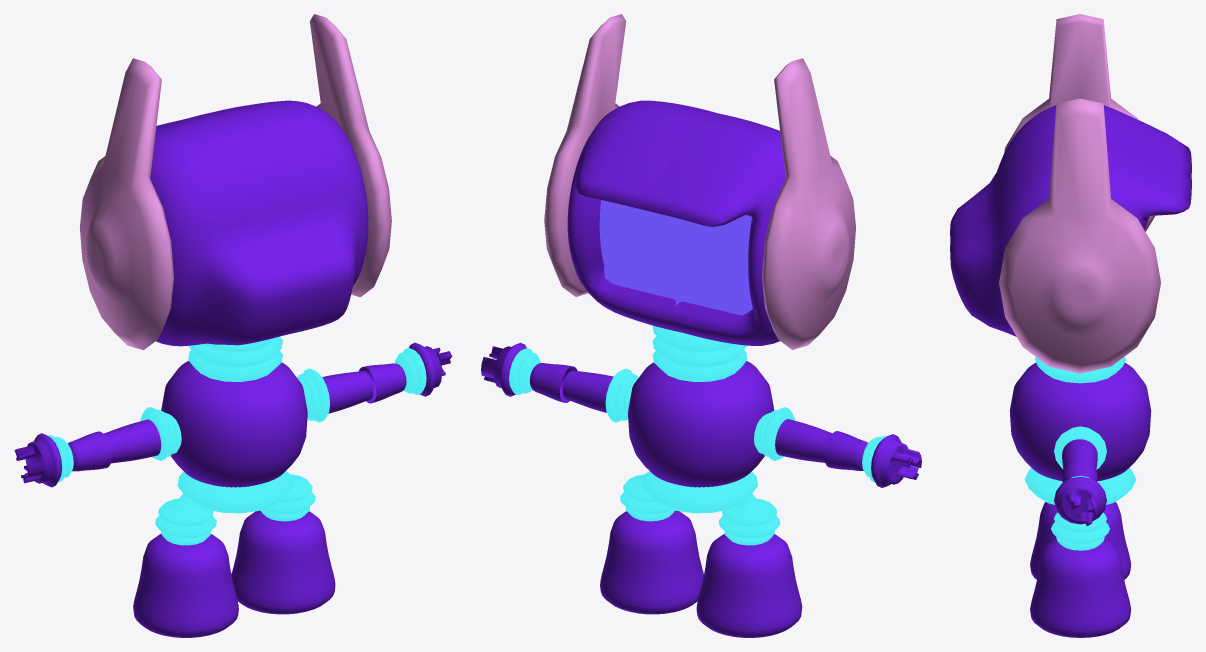
Rendered from robb.glb.
3 renders of one model, left to right at view 1: azimuth 30°, elevation 25°; view 2: azimuth 150°, elevation 25°; view 3: azimuth 270°, elevation 25°, orthographic. The views are drawn at different scales.
Visible parts, largest first — view 1: bodyFrame, ears, emissionBody, emissionNeck, brushRight, brushLeft, emissionBrushLeft; view 2: bodyFrame, ears, screenLight, emissionBody, emissionNeck, brushRight, brushLeft, emissionBrushLeft; view 3: bodyFrame, ears, emissionBody, brushLeft, emissionNeck.
Part boxes in pixels (bbox=[...]): bodyFrame: bbox=[68, 100, 406, 637]; ears: bbox=[79, 14, 391, 350]; emissionBody: bbox=[140, 368, 329, 545]; emissionNeck: bbox=[188, 336, 282, 381]; brushRight: bbox=[14, 433, 62, 487]; brushLeft: bbox=[409, 342, 452, 396]; emissionBrushLeft: bbox=[394, 347, 426, 394]; bodyFrame: bbox=[529, 100, 867, 637]; ears: bbox=[544, 14, 855, 349]; screenLight: bbox=[599, 200, 752, 315]; emissionBody: bbox=[605, 368, 794, 545]; emissionNeck: bbox=[652, 325, 747, 381]; brushRight: bbox=[871, 434, 921, 487]; brushLeft: bbox=[481, 342, 526, 396]; emissionBrushLeft: bbox=[509, 348, 540, 395]; bodyFrame: bbox=[950, 105, 1191, 637]; ears: bbox=[999, 14, 1160, 373]; emissionBody: bbox=[1024, 426, 1136, 550]; brushLeft: bbox=[1054, 476, 1106, 526]; emissionNeck: bbox=[1035, 356, 1125, 383].
Bounding box in the file's own units: 5.54 × 7.11 × 2.86.
